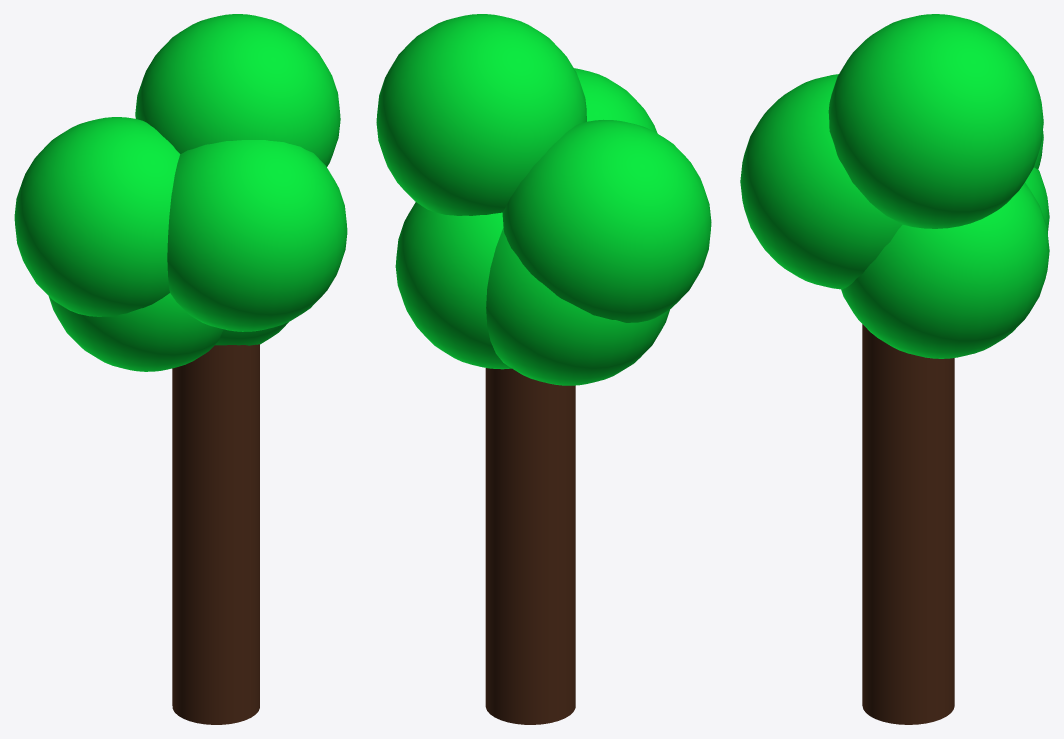
File: TREE.fbx
The picture shows the model from 3 angles, left to right: view 1: azimuth 30°, elevation 25°; view 2: azimuth 150°, elevation 25°; view 3: azimuth 270°, elevation 25°; orthographic projection. The views are drawn at different scales.
Parts seen in each view (by area): view 1: Cylinder, Sphere, Sphere.001, Sphere.002, Sphere.003, Sphere.004; view 2: Sphere.001, Cylinder, Sphere.002, Sphere.003, Sphere.004, Sphere; view 3: Sphere.002, Cylinder, Sphere.004, Sphere, Sphere.003.
Boxes of the visible parts, x1,y1,x2,y2 form: Cylinder: (172,344,259,724); Sphere: (167,140,347,331); Sphere.001: (14,117,180,316); Sphere.002: (135,14,340,166); Sphere.003: (48,293,223,371); Sphere.004: (215,322,288,345); Sphere.001: (502,119,711,322); Cylinder: (485,368,575,724); Sphere.002: (376,14,586,215); Sphere.003: (486,227,669,385); Sphere.004: (395,202,511,369); Sphere: (574,68,657,133); Sphere.002: (828,14,1043,228); Cylinder: (862,324,954,724); Sphere.004: (841,182,1049,358); Sphere: (740,74,902,289); Sphere.003: (1025,167,1049,233).
Size of the model in its own units: 786 by 1671 by 670.
